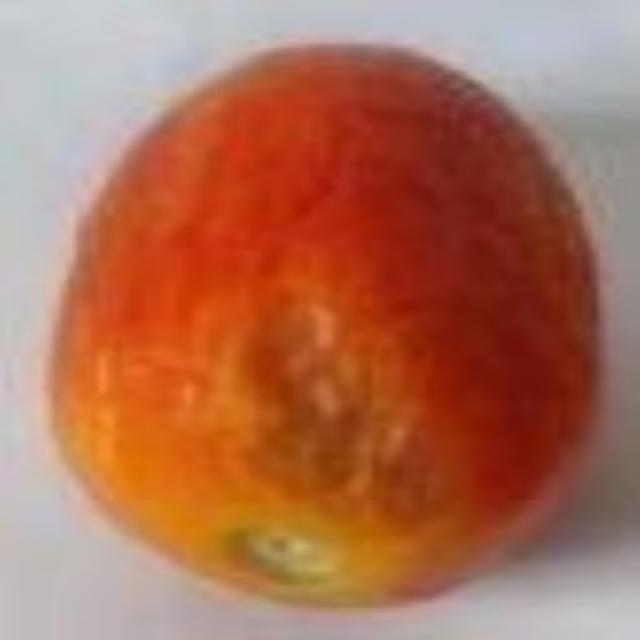defect: (48, 39, 605, 611)
